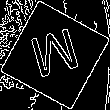M_S: (26, 24, 84, 86)
